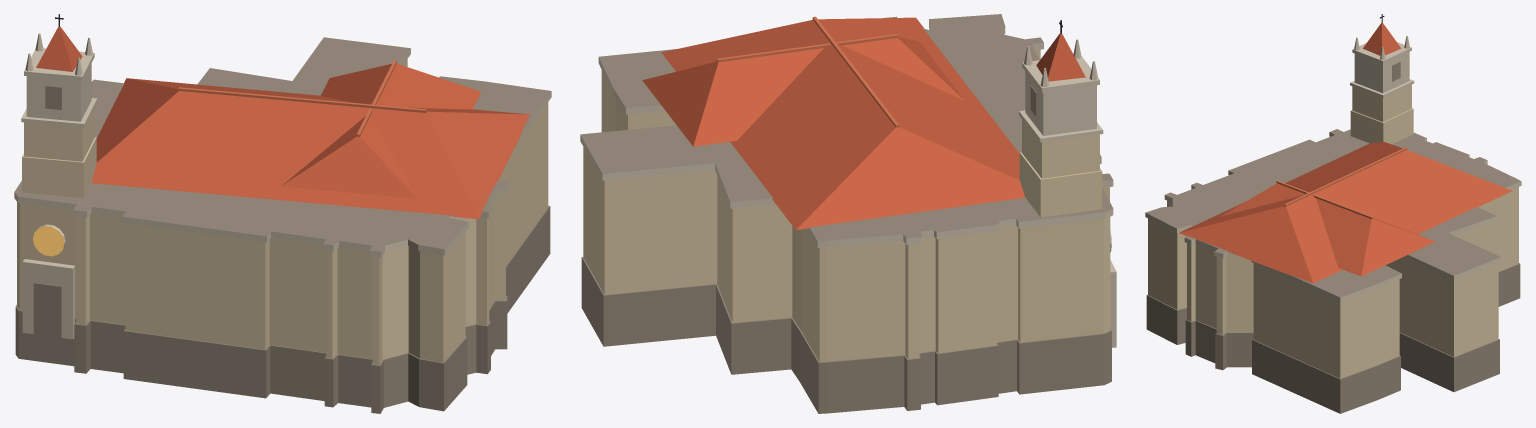
3 renders of one model, left to right at view 1: azimuth 30°, elevation 25°; view 2: azimuth 150°, elevation 25°; view 3: azimuth 270°, elevation 25°, orthographic. The views are drawn at different scales.
Visible parts, largest first — view 1: w385037723_ConcatedralSantaMaria; view 2: w385037723_ConcatedralSantaMaria; view 3: w385037723_ConcatedralSantaMaria.
Part boxes in pixels (left/top/right/bottom): w385037723_ConcatedralSantaMaria: left=14, top=14, right=551, bottom=413; w385037723_ConcatedralSantaMaria: left=580, top=14, right=1116, bottom=413; w385037723_ConcatedralSantaMaria: left=1145, top=14, right=1521, bottom=413.
Size of the model in its own units: 51.03 by 31.75 by 45.5.
2 materials, 2 textured.
